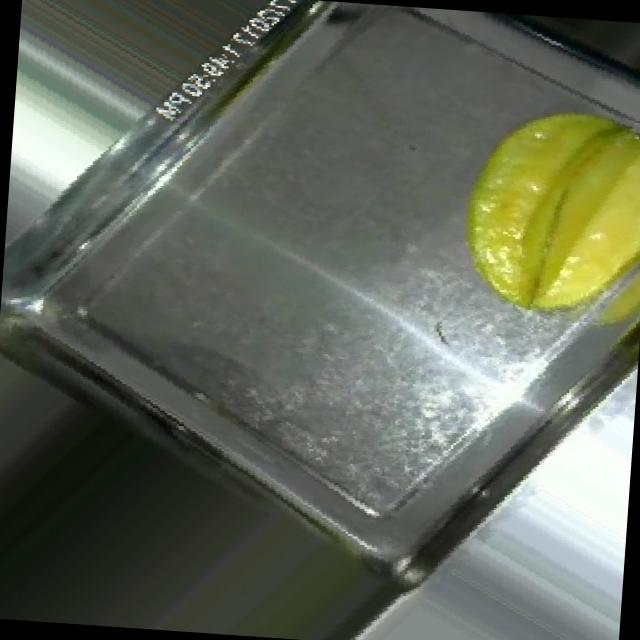fruit: (397, 54, 640, 364)
